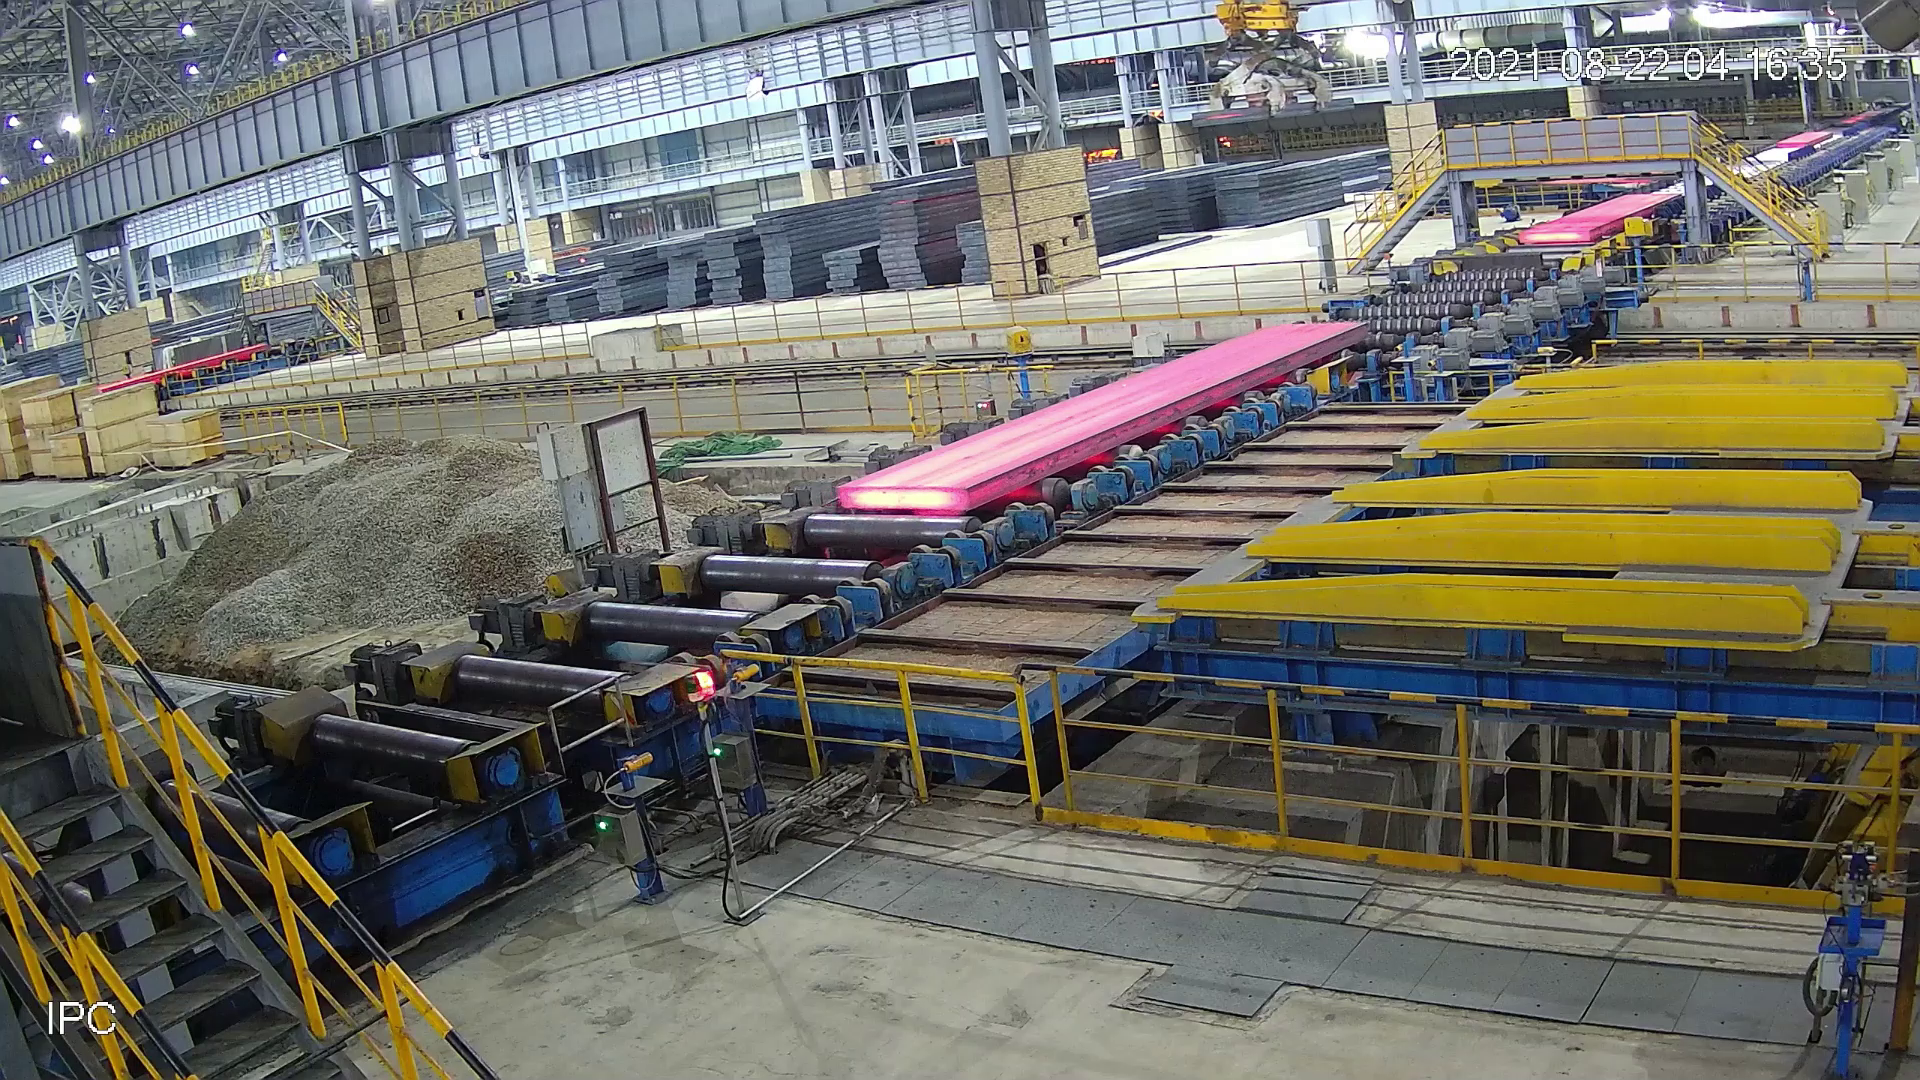slab: (843, 320, 1371, 516), (1520, 193, 1683, 245)
